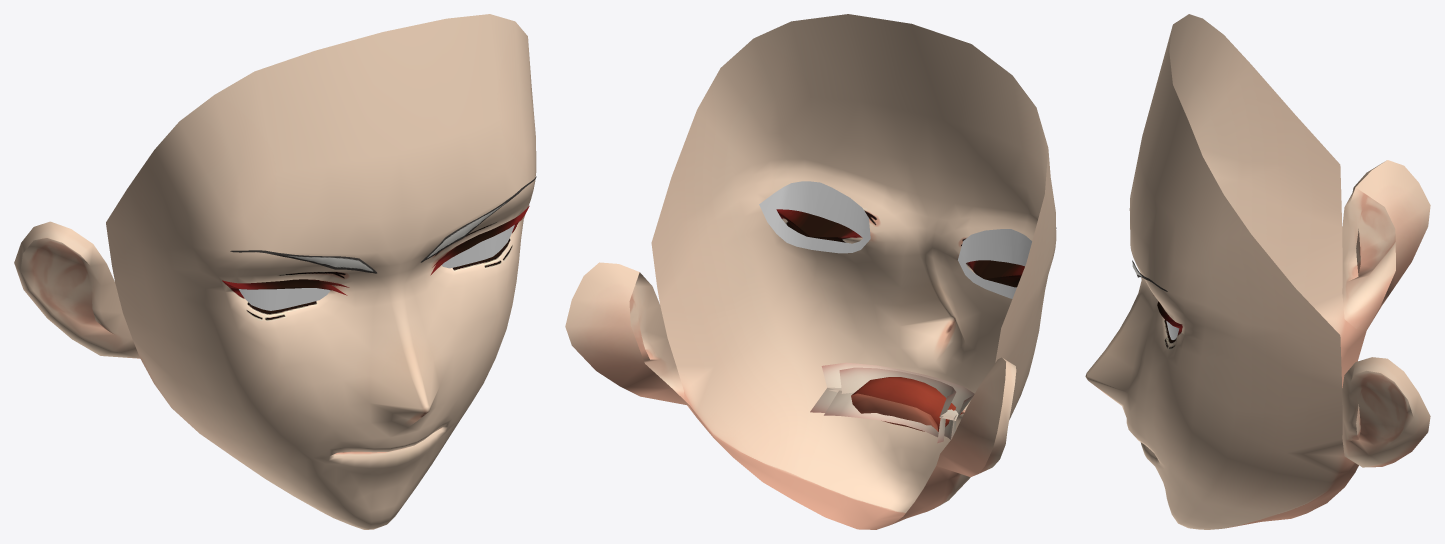
The model's file is Nagisa.fbx.
3 views of the same model, side by side, from view 1: azimuth 30°, elevation 25°; view 2: azimuth 150°, elevation 25°; view 3: azimuth 270°, elevation 25° (orthographic). The views are drawn at different scales.
Visible parts, largest first — view 1: M_Head, M_Eye_B_Def, M_Mth_B_Def, M_Brw_B_Def, M_PupALL_R_A_Def, M_PupALL_L_A_Def; view 2: M_Head, M_Eye_B_Def, M_Mth_B_Def, M_PupALL_L_A_Def, M_PupALL_R_A_Def; view 3: M_Head, M_Eye_B_Def, M_Mth_B_Def.
Part boxes in pixels (left/top/right/bottom): M_Head: left=14, top=14, right=535, bottom=398; M_Eye_B_Def: left=167, top=137, right=536, bottom=413; M_Mth_B_Def: left=140, top=358, right=495, bottom=529; M_Brw_B_Def: left=230, top=176, right=536, bottom=273; M_PupALL_R_A_Def: left=239, top=288, right=330, bottom=310; M_PupALL_L_A_Def: left=441, top=225, right=514, bottom=268; M_Head: left=565, top=14, right=1055, bottom=477; M_Eye_B_Def: left=709, top=133, right=1056, bottom=410; M_Mth_B_Def: left=684, top=319, right=1017, bottom=529; M_PupALL_L_A_Def: left=759, top=181, right=870, bottom=253; M_PupALL_R_A_Def: left=958, top=229, right=1031, bottom=298; M_Head: left=1129, top=14, right=1430, bottom=467; M_Eye_B_Def: left=1085, top=118, right=1242, bottom=449; M_Mth_B_Def: left=1088, top=318, right=1366, bottom=529.
Bounding box in the file's own units: 0.1645 × 0.171 × 0.1122.
5 materials, 3 textured.
